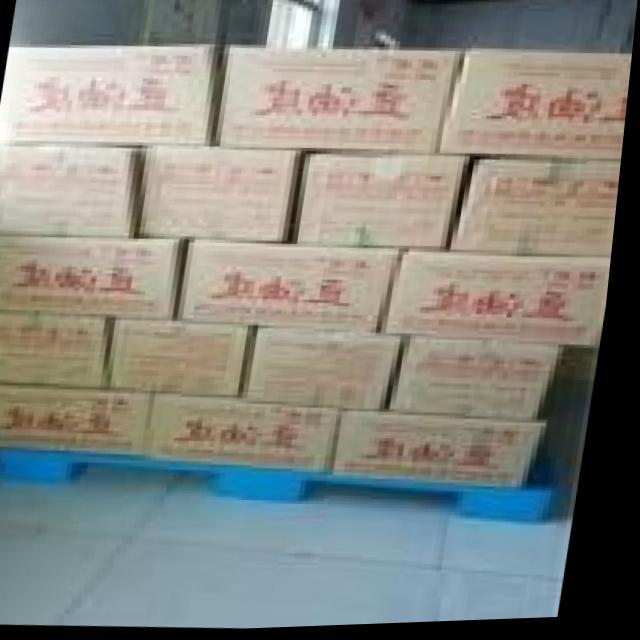box: (217, 46, 470, 155), (387, 248, 617, 348), (440, 52, 634, 164), (4, 46, 217, 148), (181, 240, 411, 334), (0, 231, 197, 322), (295, 152, 477, 249), (347, 411, 556, 495), (456, 159, 625, 260), (140, 151, 321, 241), (152, 394, 351, 474), (393, 337, 574, 423), (249, 328, 416, 413), (0, 143, 144, 237), (110, 320, 256, 398), (0, 385, 153, 455), (0, 314, 113, 389)
